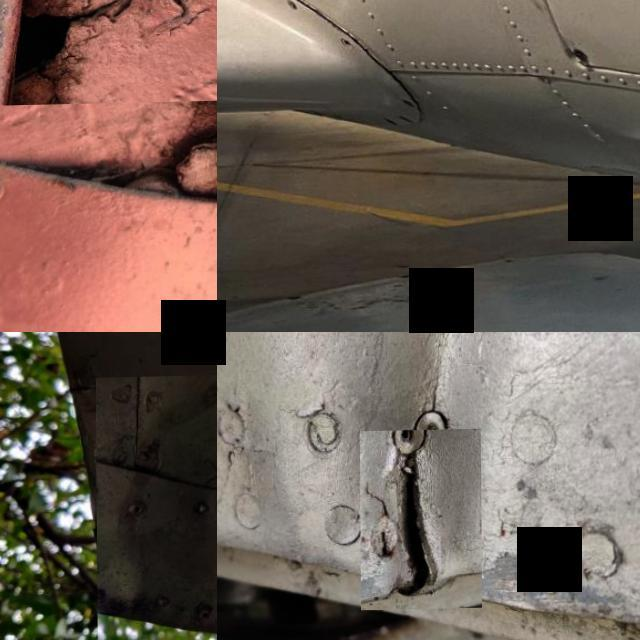Crack: (0, 0, 217, 106), (359, 430, 482, 612), (356, 42, 424, 102), (252, 0, 345, 36)
Dent: (95, 373, 217, 640)
Missing_Fastener: (400, 100, 414, 110), (338, 40, 352, 50), (399, 116, 411, 125)
